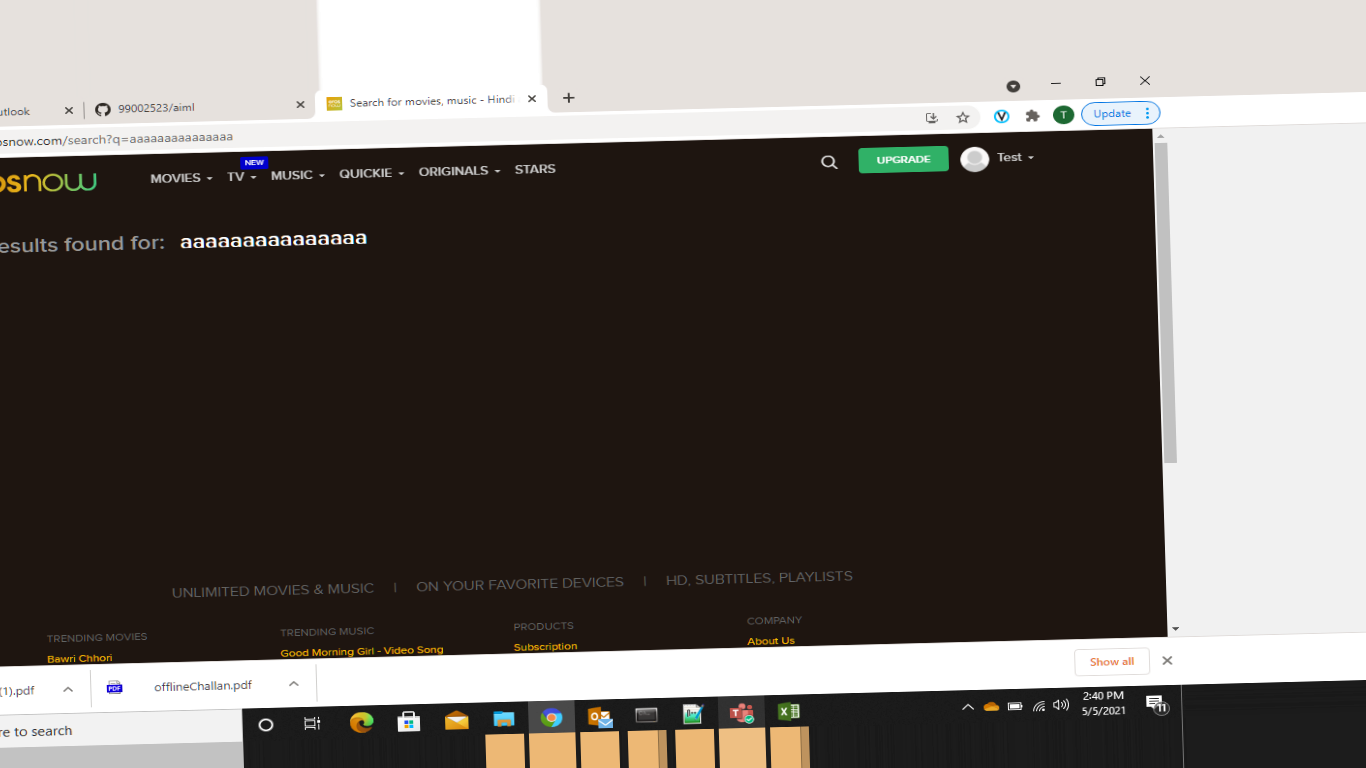noresultsfound: (1, 225, 375, 264)
profileicon: (956, 138, 1044, 181)
searchicon: (814, 149, 842, 175)
